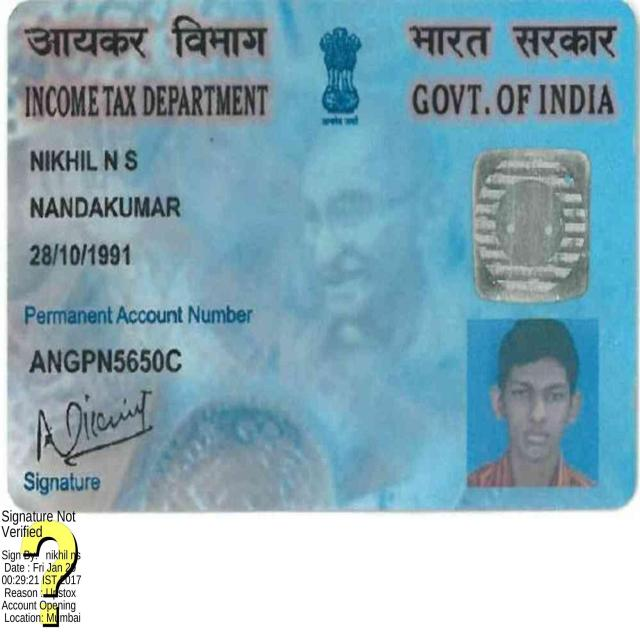pan_card: (15, 7, 631, 506)
